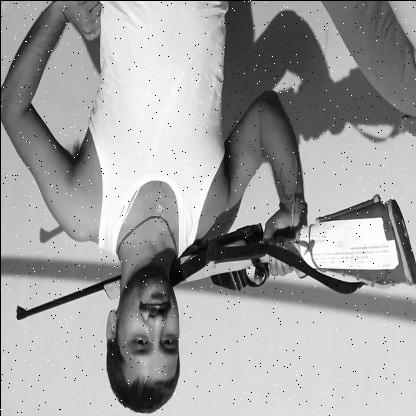rifle: (13, 190, 416, 323)
